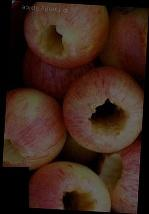rotten apple: (68, 72, 143, 153), (33, 20, 65, 63)
